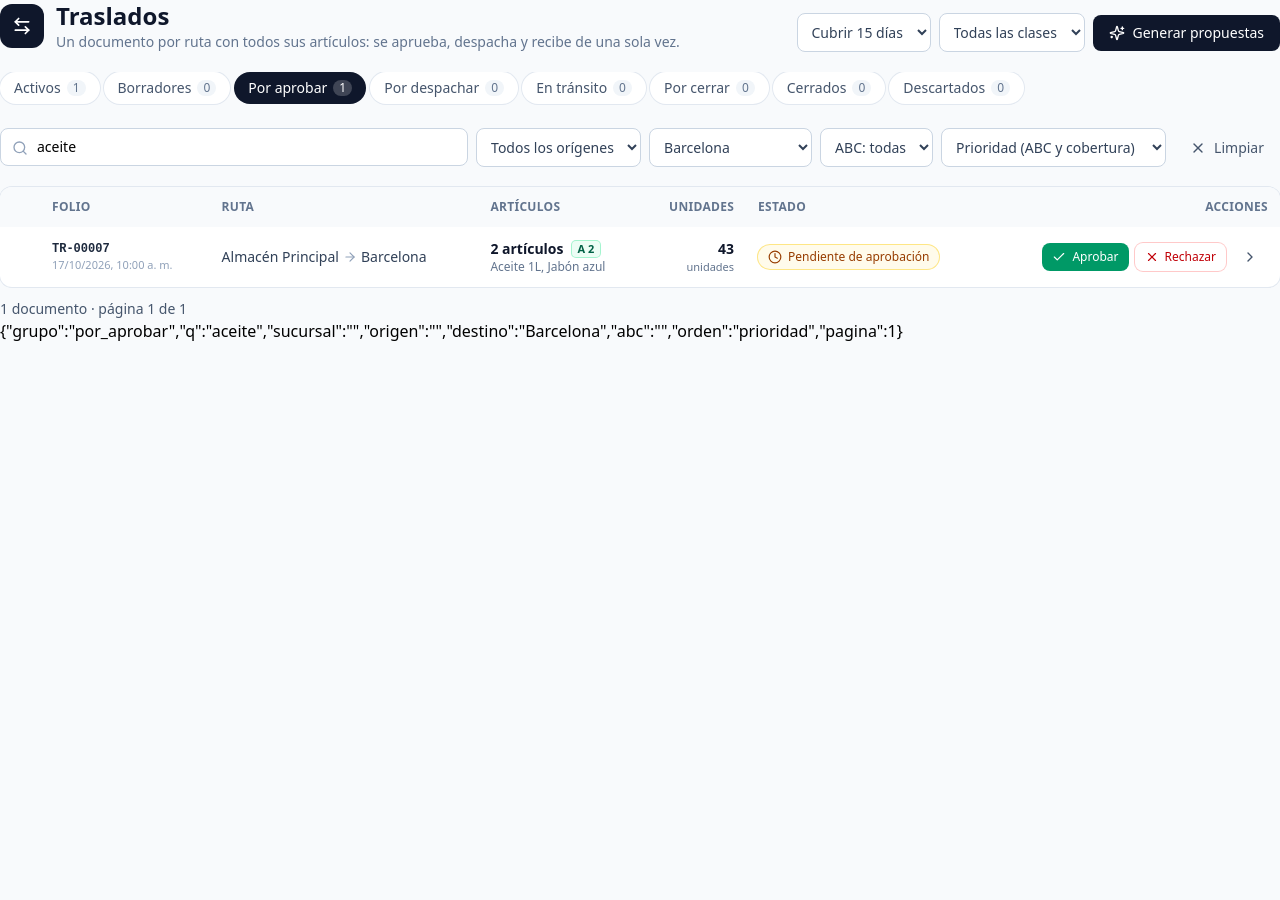
Scenario: Bandeja de traslados › el detalle aprueba el documento completo con las cantidades ajustadas por artículo
The width and height of the screenshot is (1280, 900).
Click the text "TR-00007".
click(81, 249)  # box [52, 242, 110, 256]
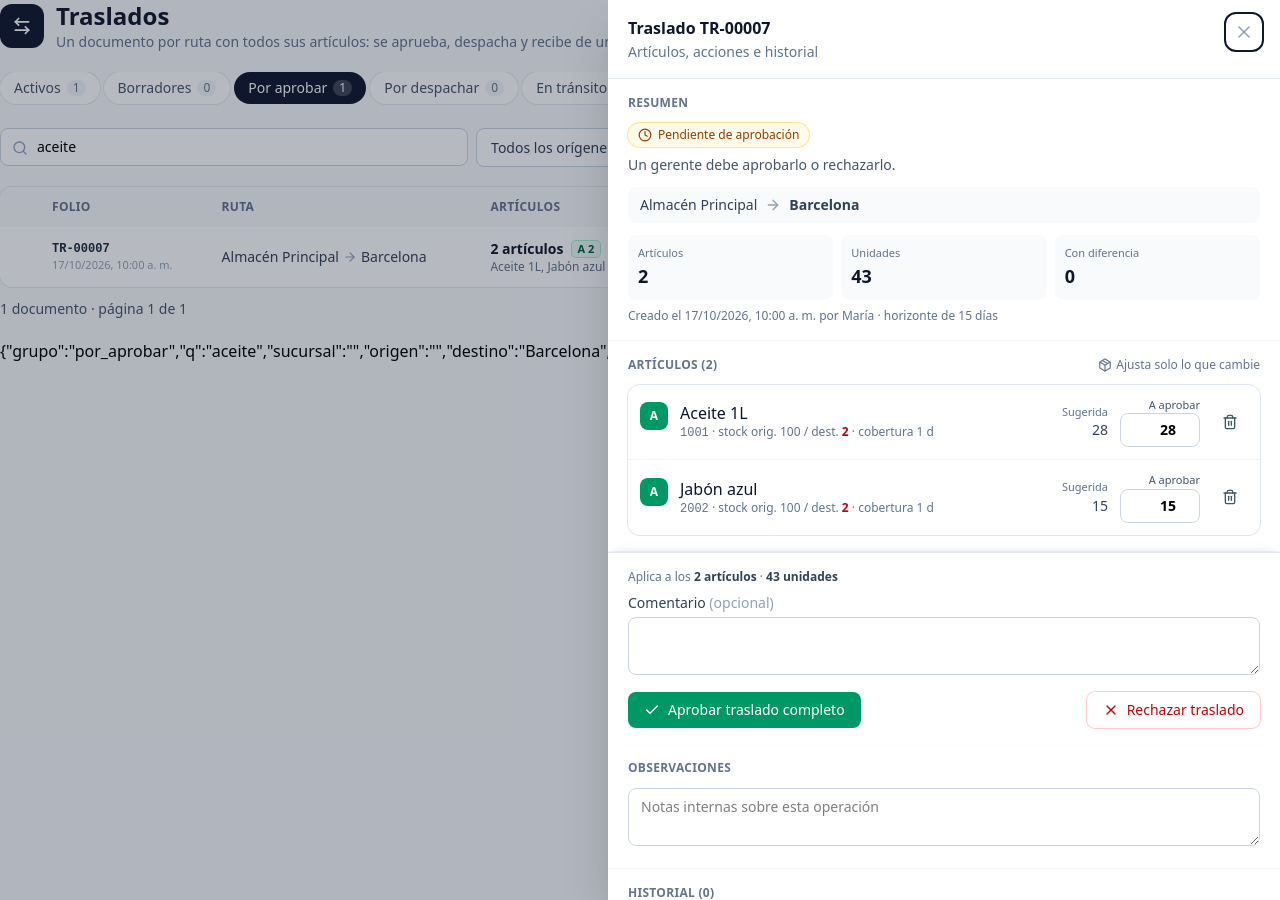
Now the number field named "A aprobar: Jabón azul" holds "15"
Replace the text in the number field named "A aprobar: Jabón azul" with "10" at (1160, 506), box [1120, 488, 1200, 522]
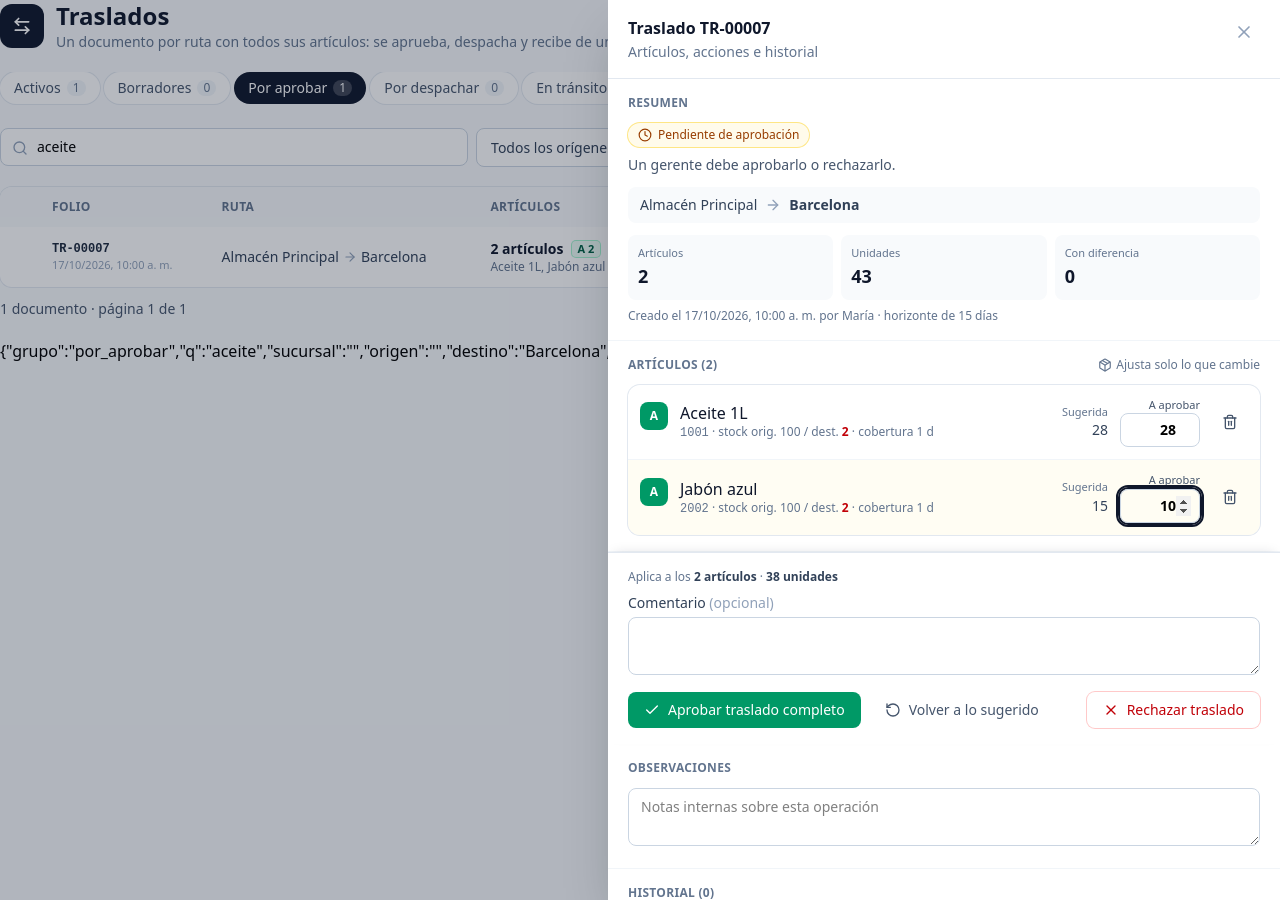
Click the button "Aprobar traslado completo".
click(744, 710)  # box [628, 692, 861, 728]
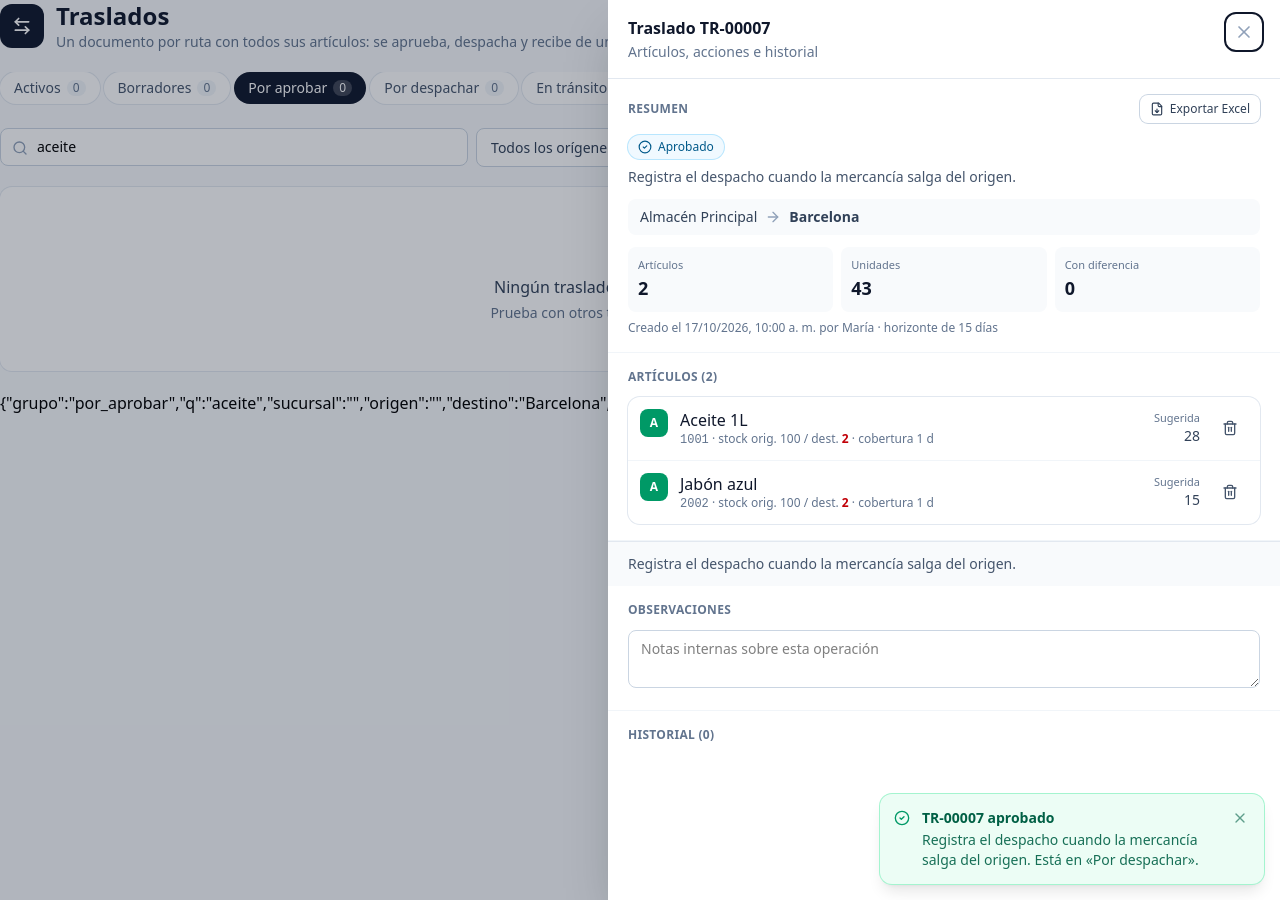
Now the text "TR-00007 aprobado" is shown, box [922, 808, 1054, 827]
